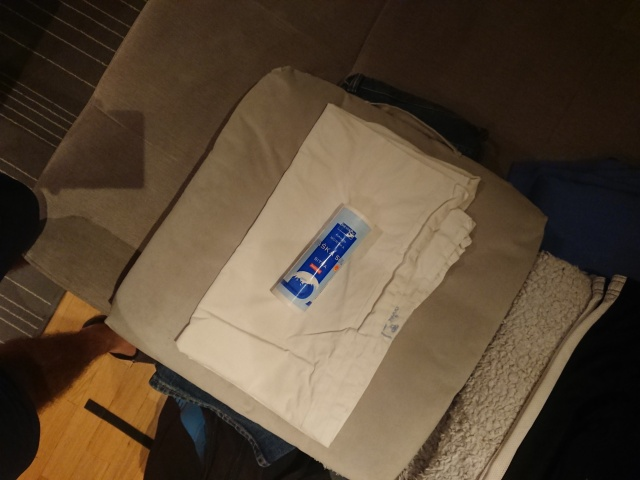Solana Pag Fine Sea Salt 250g: (267, 202, 375, 318)
